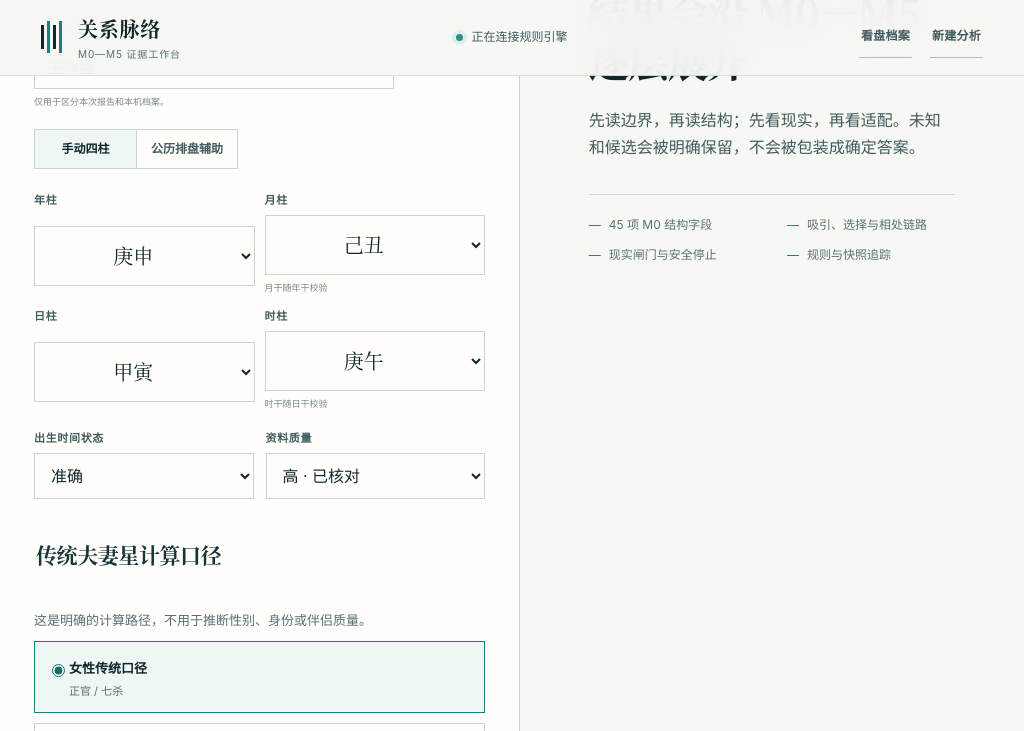
Test case: App analysis provenance › blocks page unload until the completed reading is saved
The image size is (1024, 731).
(page scrolled)
Step 1. Submit the form
(page scrolled)
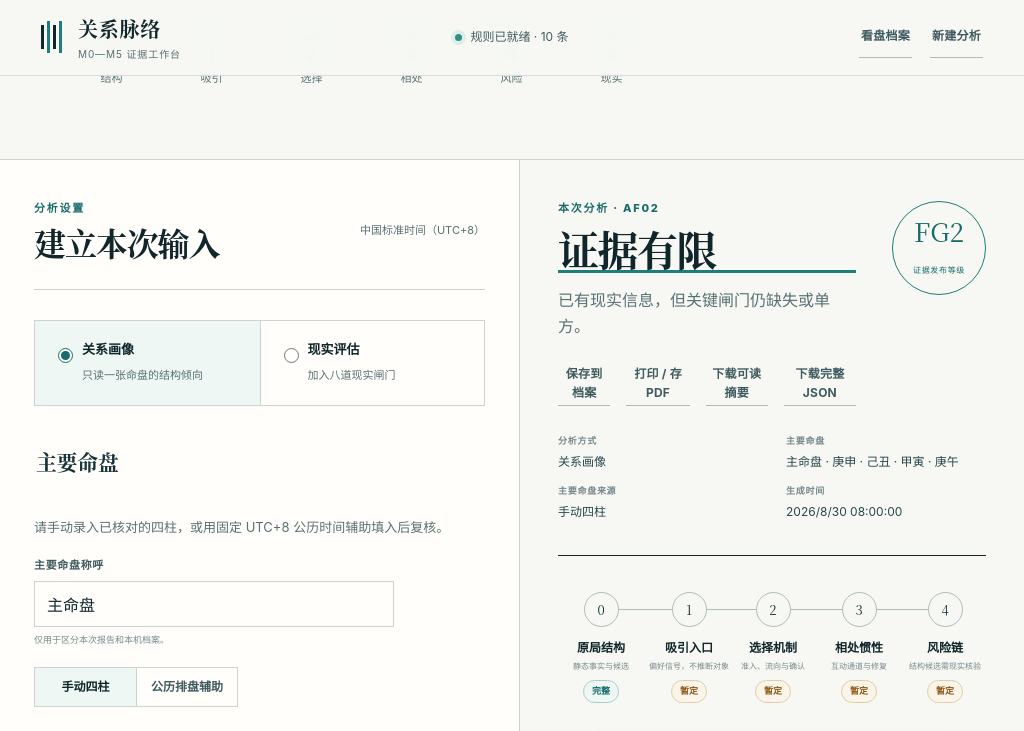
Check: the button "保存到档案" is enabled
Step 2. Click the button "保存到档案" → (584, 385), box [558, 364, 610, 406]
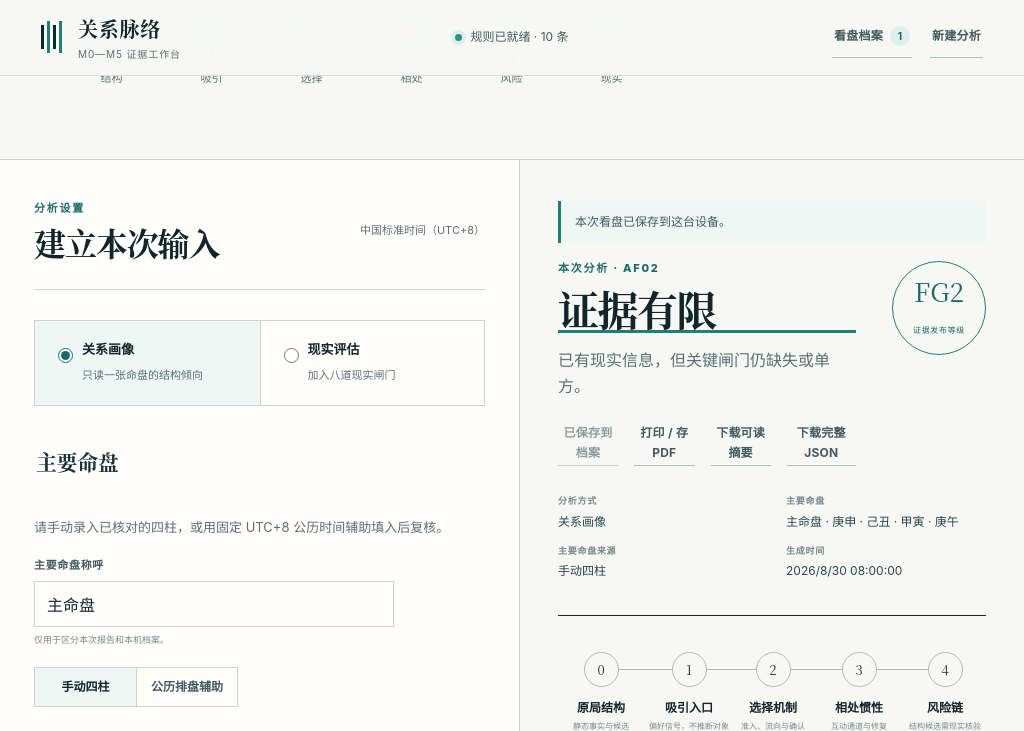
Check: the button "已保存到档案" is disabled, box [558, 423, 618, 466]
